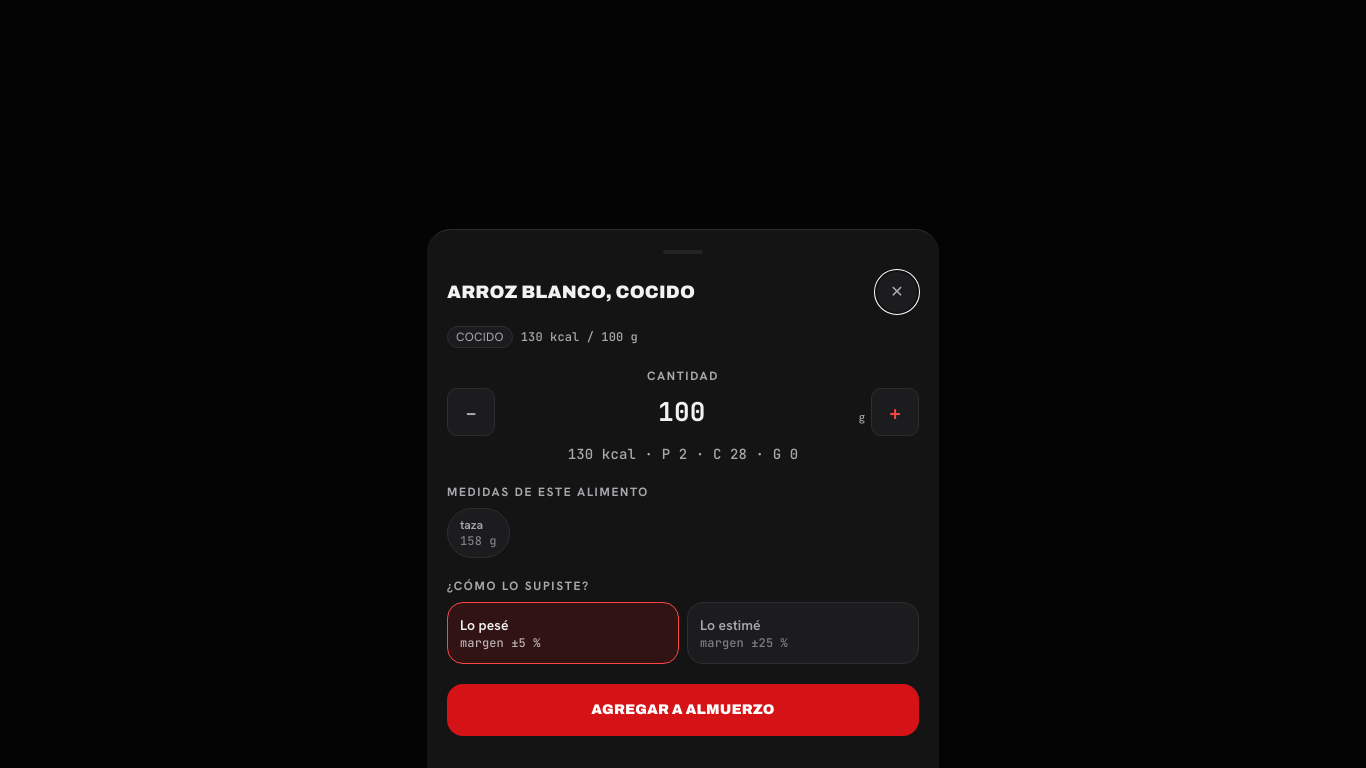
Test: SheetCantidad › no deja agregar 0 g
Replace the text in the field named "Cantidad en g" with "0" at (682,412), box [501, 390, 863, 434]
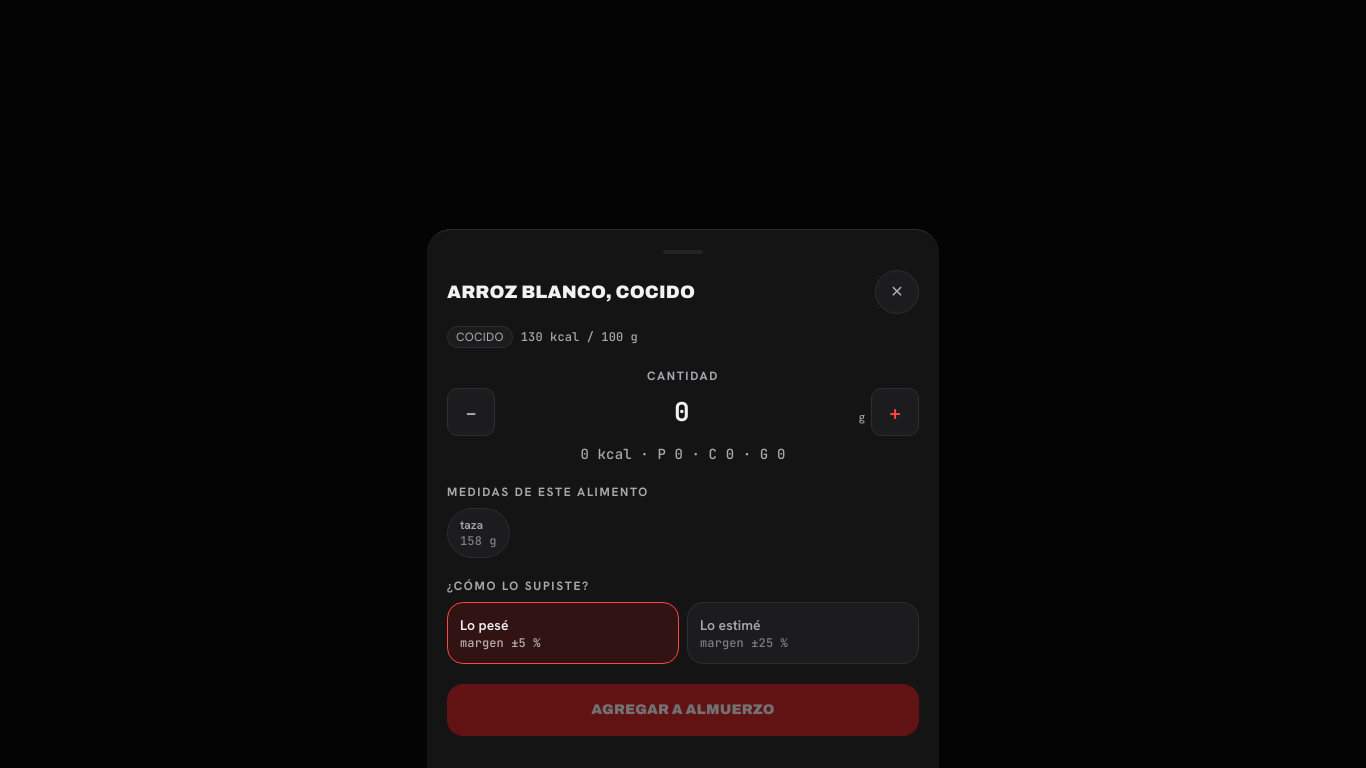
expect the button "Agregar a Almuerzo" is disabled: met, box [447, 684, 919, 736]
